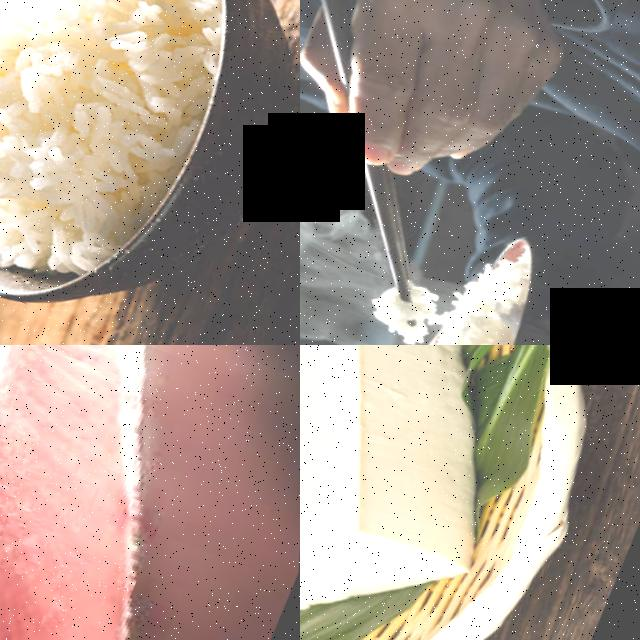tofu: (300, 345, 503, 640)
tuna: (0, 364, 220, 640)
white rice: (0, 0, 235, 283), (406, 236, 550, 345)
